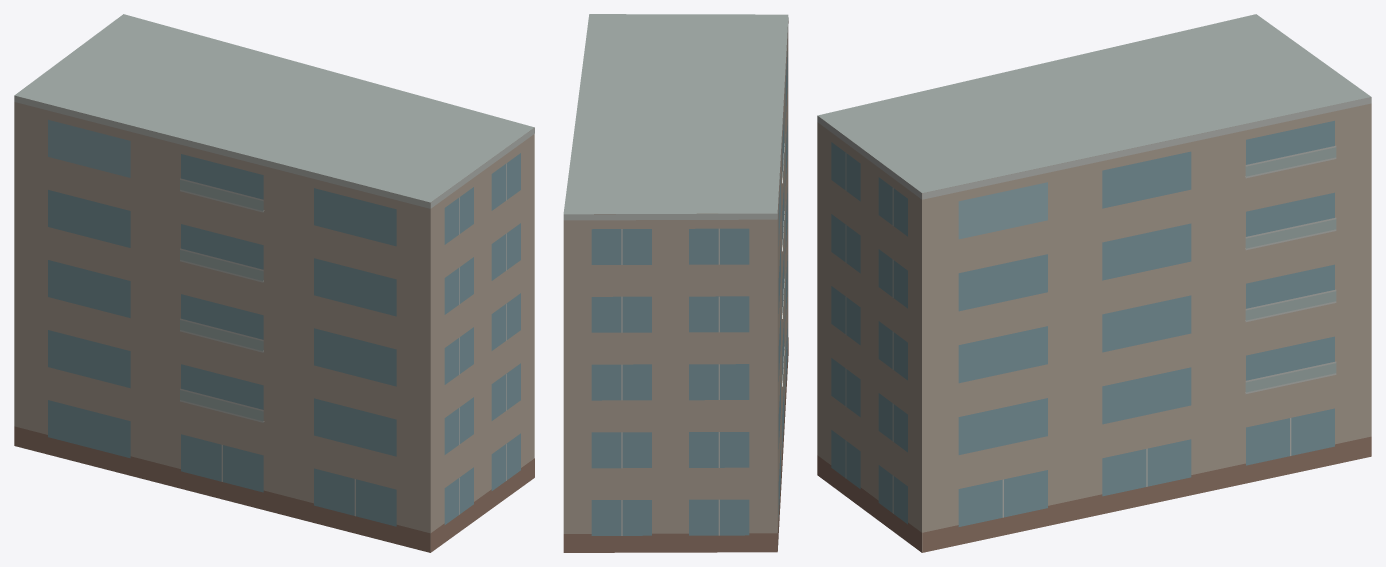
File: survey-upis-32768302.glb
3 views of the same model, side by side, from view 1: azimuth 30°, elevation 25°; view 2: azimuth 150°, elevation 25°; view 3: azimuth 270°, elevation 25° (orthographic). The views are drawn at different scales.
Visible parts, largest first — view 1: survey-upis-32768302.tmp; view 2: survey-upis-32768302.tmp; view 3: survey-upis-32768302.tmp.
Part boxes in pixels (x1=…): survey-upis-32768302.tmp: x1=14, y1=14, x2=534, y2=552; survey-upis-32768302.tmp: x1=563, y1=14, x2=788, y2=552; survey-upis-32768302.tmp: x1=817, y1=14, x2=1371, y2=552.
Size of the model in its own units: 14.32 by 13.4 by 18.72.
